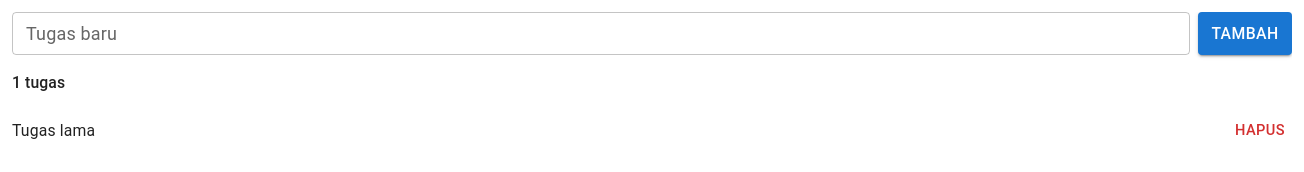
Test: DaftarTugas (integrasi: form + daftar) › menghapus tugas dari daftar
Click the button with aria-label "Hapus Tugas lama" at (1260,131), box [1228, 114, 1292, 148]
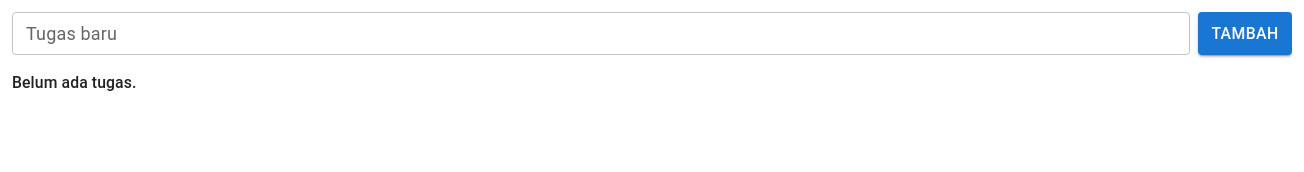
Expected: the text "Tugas lama" is gone
Expected: the heading "Belum ada tugas." is shown, [12, 73, 136, 92]
